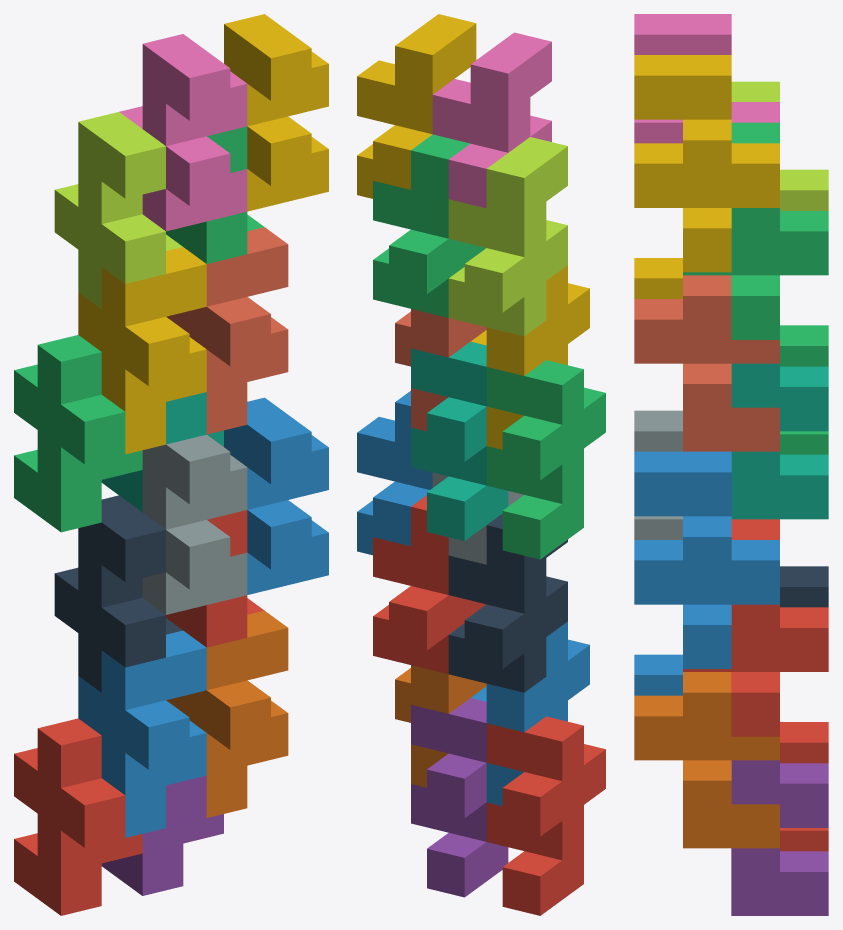
The model's file is tiling.obj.
3 views of the same model, side by side, from view 1: azimuth 30°, elevation 25°; view 2: azimuth 150°, elevation 25°; view 3: azimuth 270°, elevation 25° (orthographic). The views are drawn at different scales.
Visible parts, largest first — view 1: copy_1_domain_1, copy_1_domain_3, copy_2_domain_4, copy_1_domain_2, copy_1_domain_4, copy_2_domain_3, copy_2_domain_2, copy_2_domain_1, copy_2_domain_8, copy_2_domain_6, copy_1_domain_8, copy_1_domain_6 (+4 smaller); view 2: copy_2_domain_3, copy_1_domain_1, copy_1_domain_3, copy_2_domain_1, copy_1_domain_7, copy_1_domain_5, copy_2_domain_4, copy_2_domain_8, copy_2_domain_7, copy_2_domain_5, copy_2_domain_6, copy_1_domain_4 (+4 smaller); view 3: copy_2_domain_6, copy_2_domain_8, copy_1_domain_6, copy_1_domain_8, copy_1_domain_7, copy_1_domain_5, copy_2_domain_7, copy_2_domain_5, copy_2_domain_4, copy_1_domain_1, copy_1_domain_3, copy_2_domain_2 (+4 smaller).
Part boxes in pixels (box(x1,y1,x2,y2)): copy_1_domain_1: box(14, 718, 142, 915); copy_1_domain_3: box(14, 335, 142, 532); copy_2_domain_4: box(119, 34, 247, 231); copy_1_domain_2: box(78, 630, 206, 837); copy_1_domain_4: box(78, 247, 206, 454); copy_2_domain_3: box(54, 112, 182, 308); copy_2_domain_2: box(142, 434, 247, 614); copy_2_domain_1: box(54, 495, 182, 692); copy_2_domain_8: box(224, 14, 328, 211); copy_2_domain_6: box(224, 397, 328, 594); copy_1_domain_8: box(166, 227, 288, 434); copy_1_domain_6: box(166, 610, 288, 817); copy_2_domain_3: box(448, 137, 567, 336); copy_1_domain_1: box(486, 716, 605, 915); copy_1_domain_3: box(486, 360, 605, 559); copy_2_domain_1: box(448, 513, 567, 692); copy_1_domain_7: box(411, 341, 508, 540); copy_1_domain_5: box(411, 698, 508, 897); copy_2_domain_4: box(432, 32, 551, 208); copy_2_domain_8: box(357, 14, 476, 198); copy_2_domain_7: box(373, 134, 485, 317); copy_2_domain_5: box(373, 495, 485, 674); copy_2_domain_6: box(357, 391, 432, 555); copy_1_domain_4: box(471, 265, 589, 449); copy_2_domain_6: box(634, 451, 779, 668); copy_2_domain_8: box(634, 55, 779, 272); copy_1_domain_6: box(634, 672, 779, 848); copy_1_domain_8: box(634, 275, 779, 451); copy_1_domain_7: box(731, 363, 828, 519); copy_1_domain_5: box(731, 760, 828, 915); copy_2_domain_7: box(683, 122, 828, 339); copy_2_domain_5: box(683, 519, 828, 736); copy_2_domain_4: box(634, 14, 779, 143); copy_1_domain_1: box(780, 722, 828, 851); copy_1_domain_3: box(780, 325, 828, 454); copy_2_domain_2: box(634, 410, 682, 539).
Size of the model in its own units: 6 by 20 by 4.
